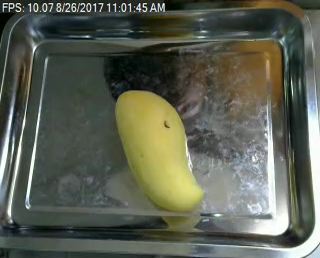Mango: (111, 90, 212, 207)
